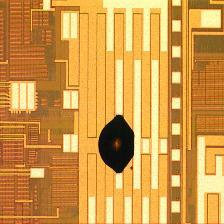PO CONTAMINATION: (97, 114, 139, 177)
